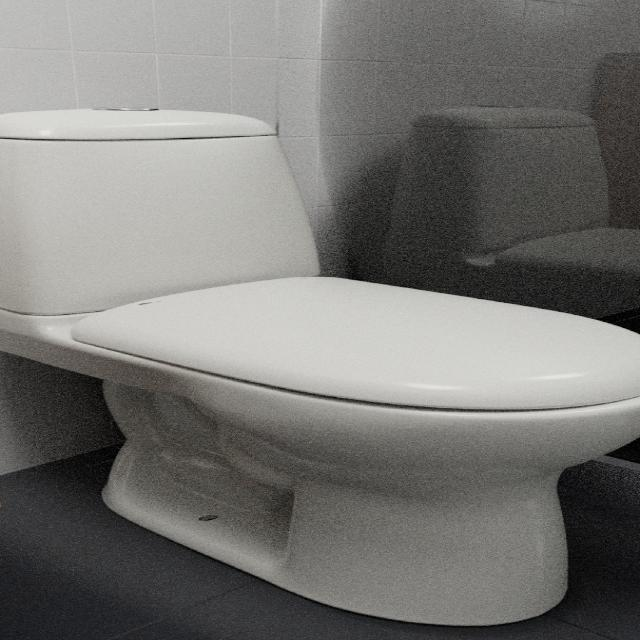toilet: (1, 107, 638, 626)
